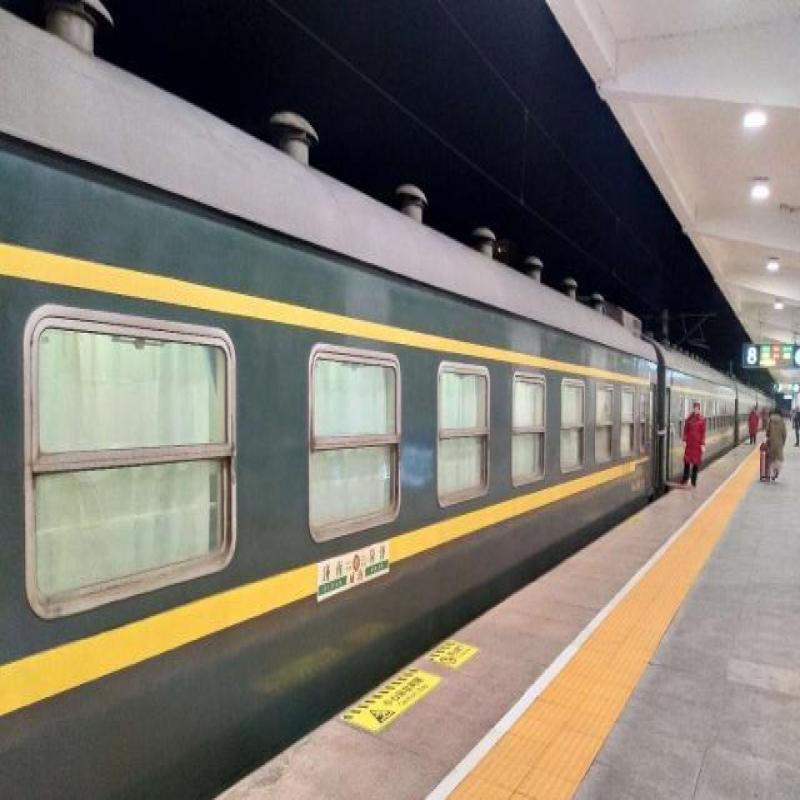train: (22, 10, 632, 536)
